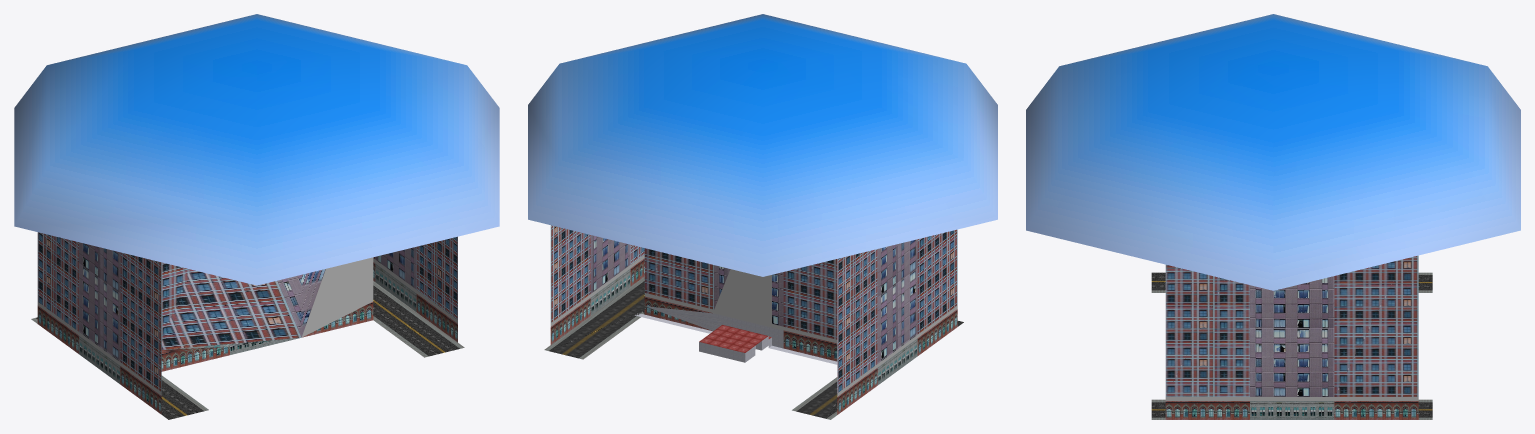
Rendered from ENVI_Foyer.obj.
3 renders of one model, left to right at view 1: azimuth 30°, elevation 25°; view 2: azimuth 150°, elevation 25°; view 3: azimuth 270°, elevation 25°, orthographic. The views are drawn at different scales.
Visible parts, largest first — view 1: Foyer; view 2: Foyer; view 3: Foyer.
Boxes of the visible parts, box(x1,y1,x2,y2) form: Foyer: box(14, 14, 499, 419); Foyer: box(528, 14, 997, 419); Foyer: box(1026, 14, 1520, 419).
Size of what is drawn, in the model's own units: 12802 by 6907 by 11087.
Materials: 31 (24 with a texture image).
